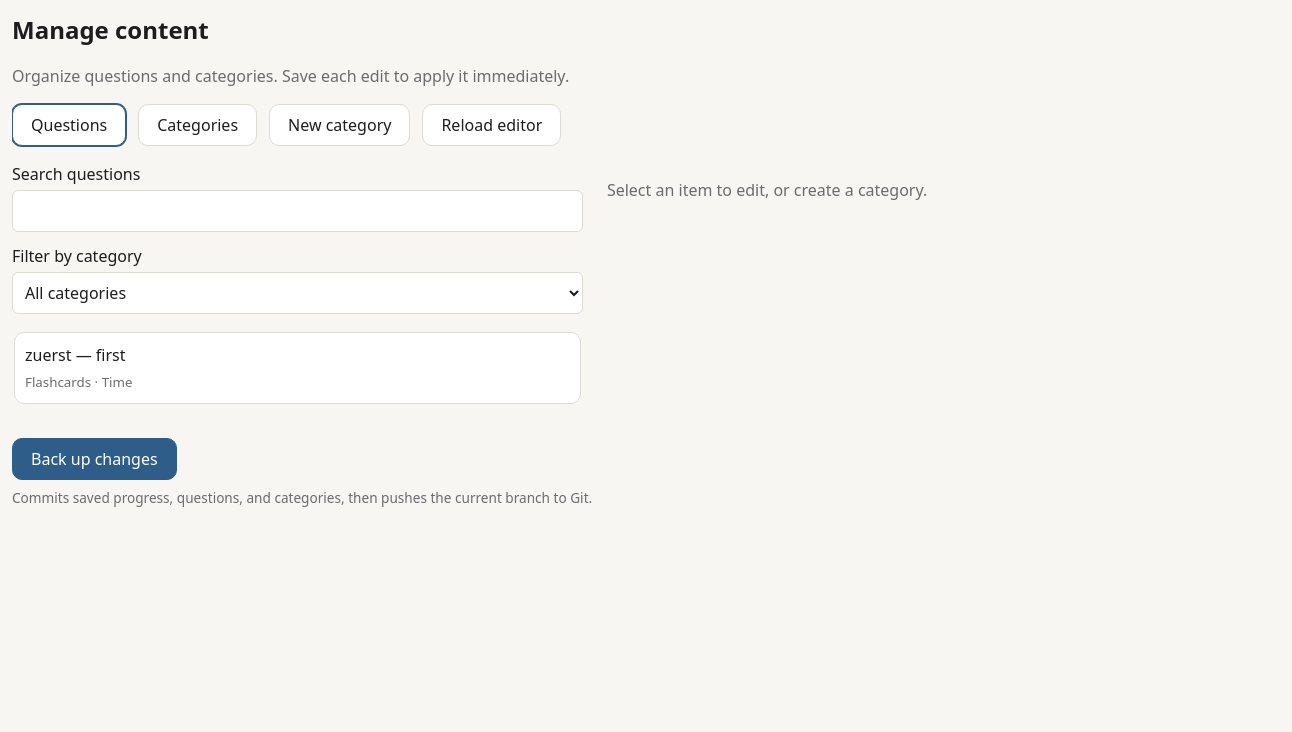
Test: searches questions and submits category changes with the loaded revision
Type "missing" into the search field labelled "Search questions".
click(297, 211); type("missing")  # box [12,190,583,232]
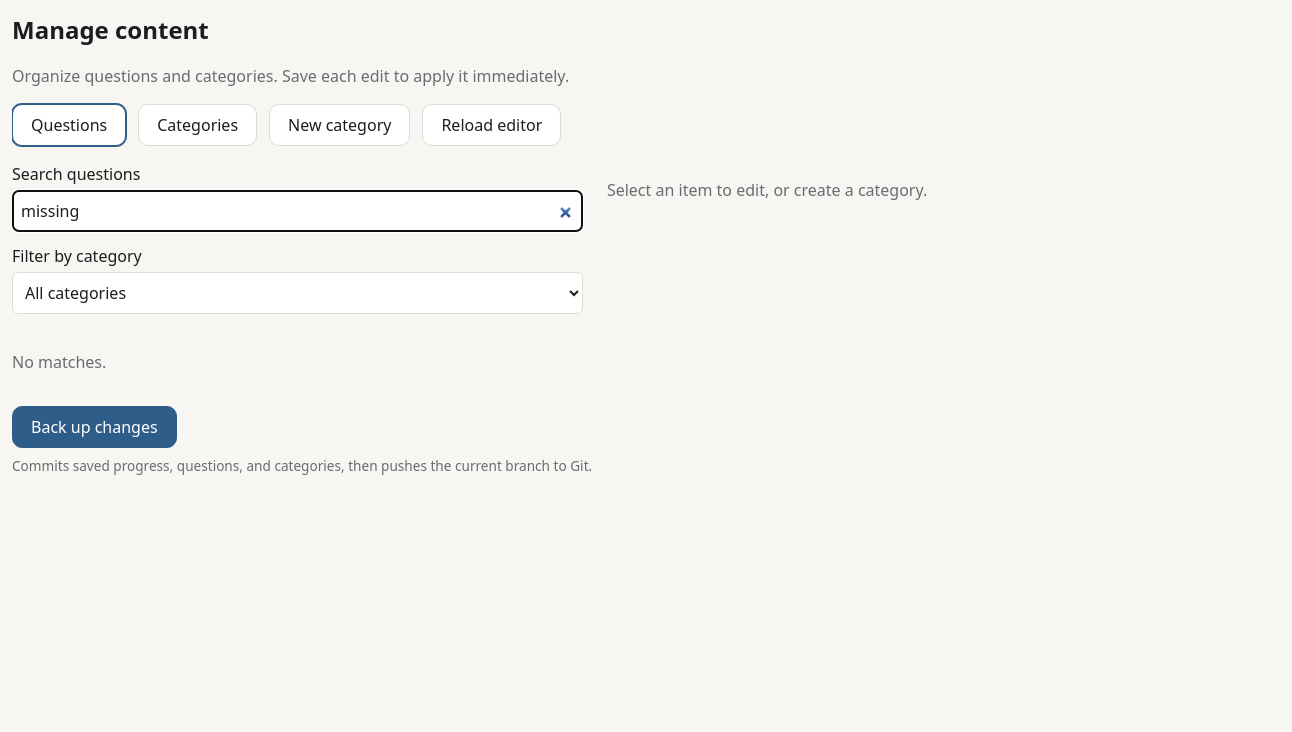
Check: the text "No matches." is shown, box [12,351,106,373]
Clear the search field labelled "Search questions" at (297, 211), box [12,190,583,232]
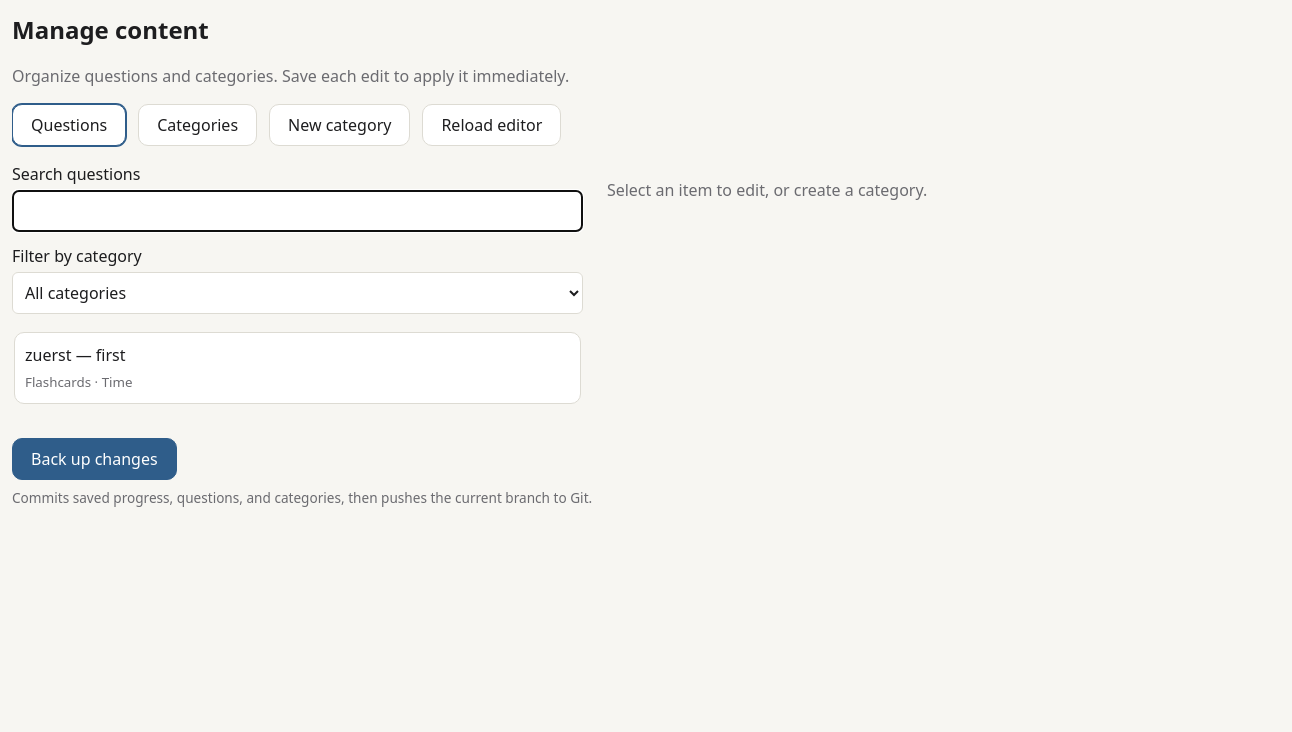
Click the button "zuerst — first Flashcards · Time".
click(75, 355)  # box [14,332,581,404]
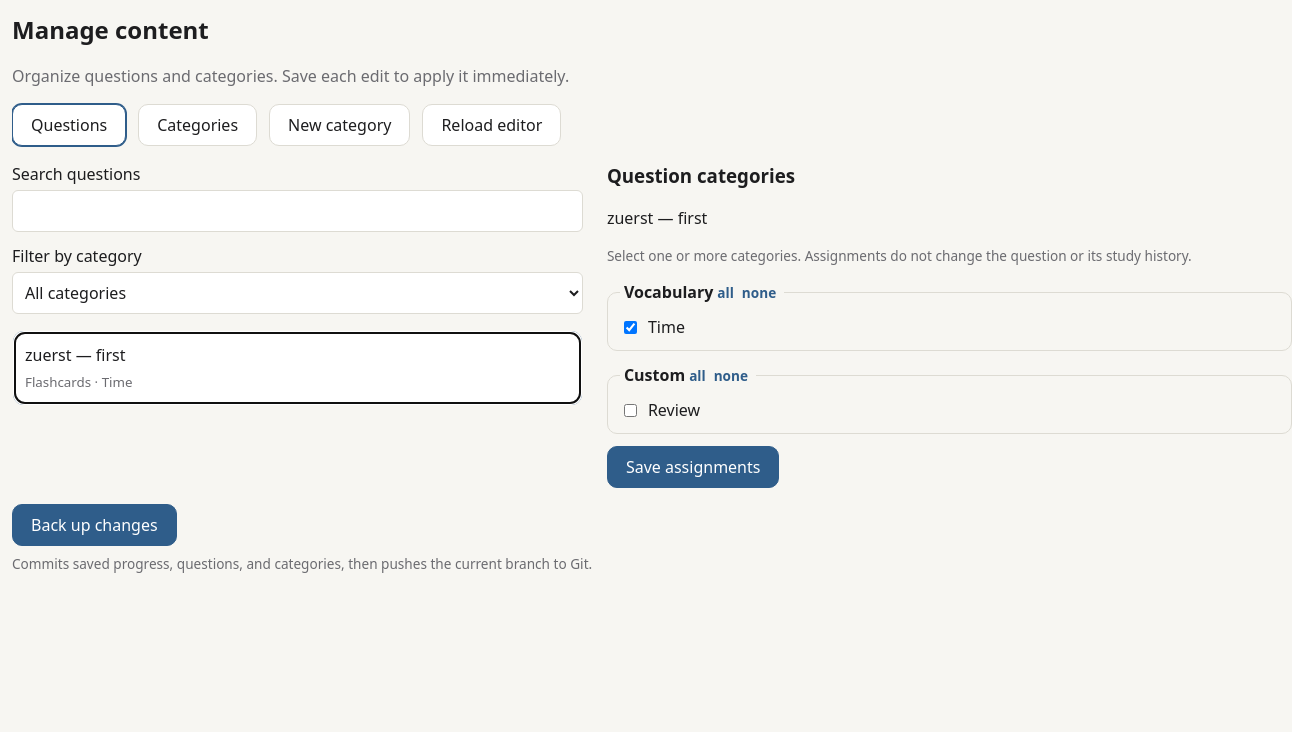
Click the checkbox labelled "Review".
click(630, 410)  # box [624,404,637,417]
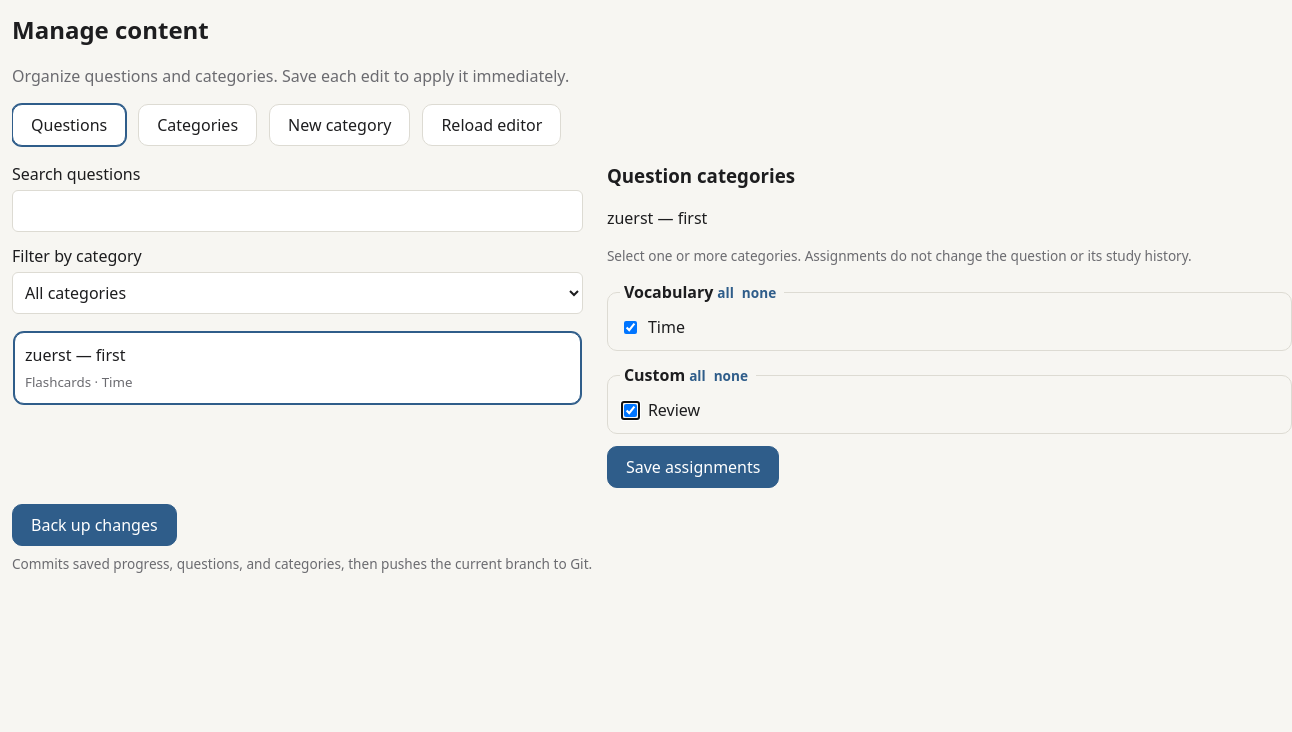
Click the button "Save assignments".
click(693, 467)  # box [607,446,779,488]
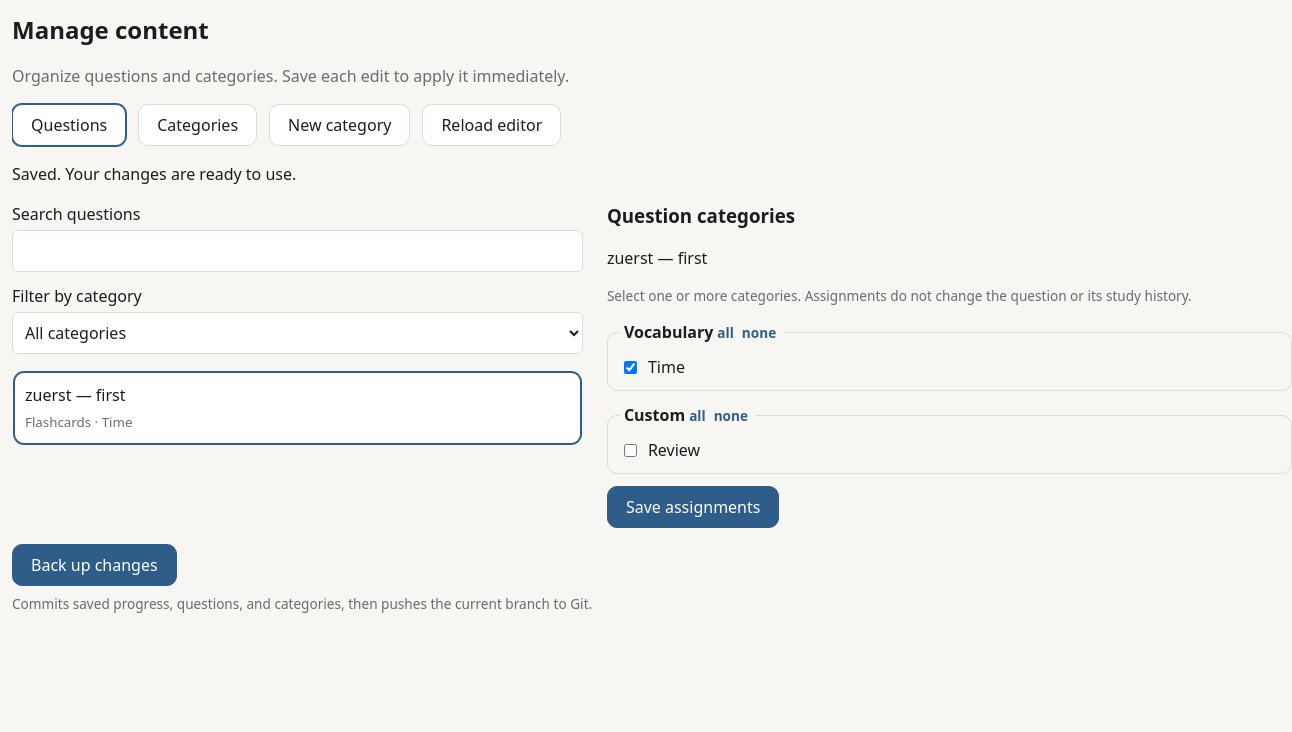
Check: the message shows "Saved", box [12,163,296,185]
